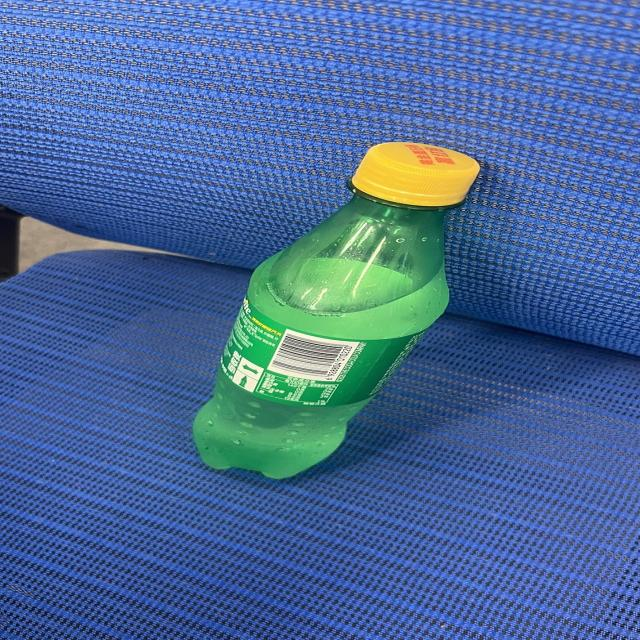high: (194, 142, 478, 478)
